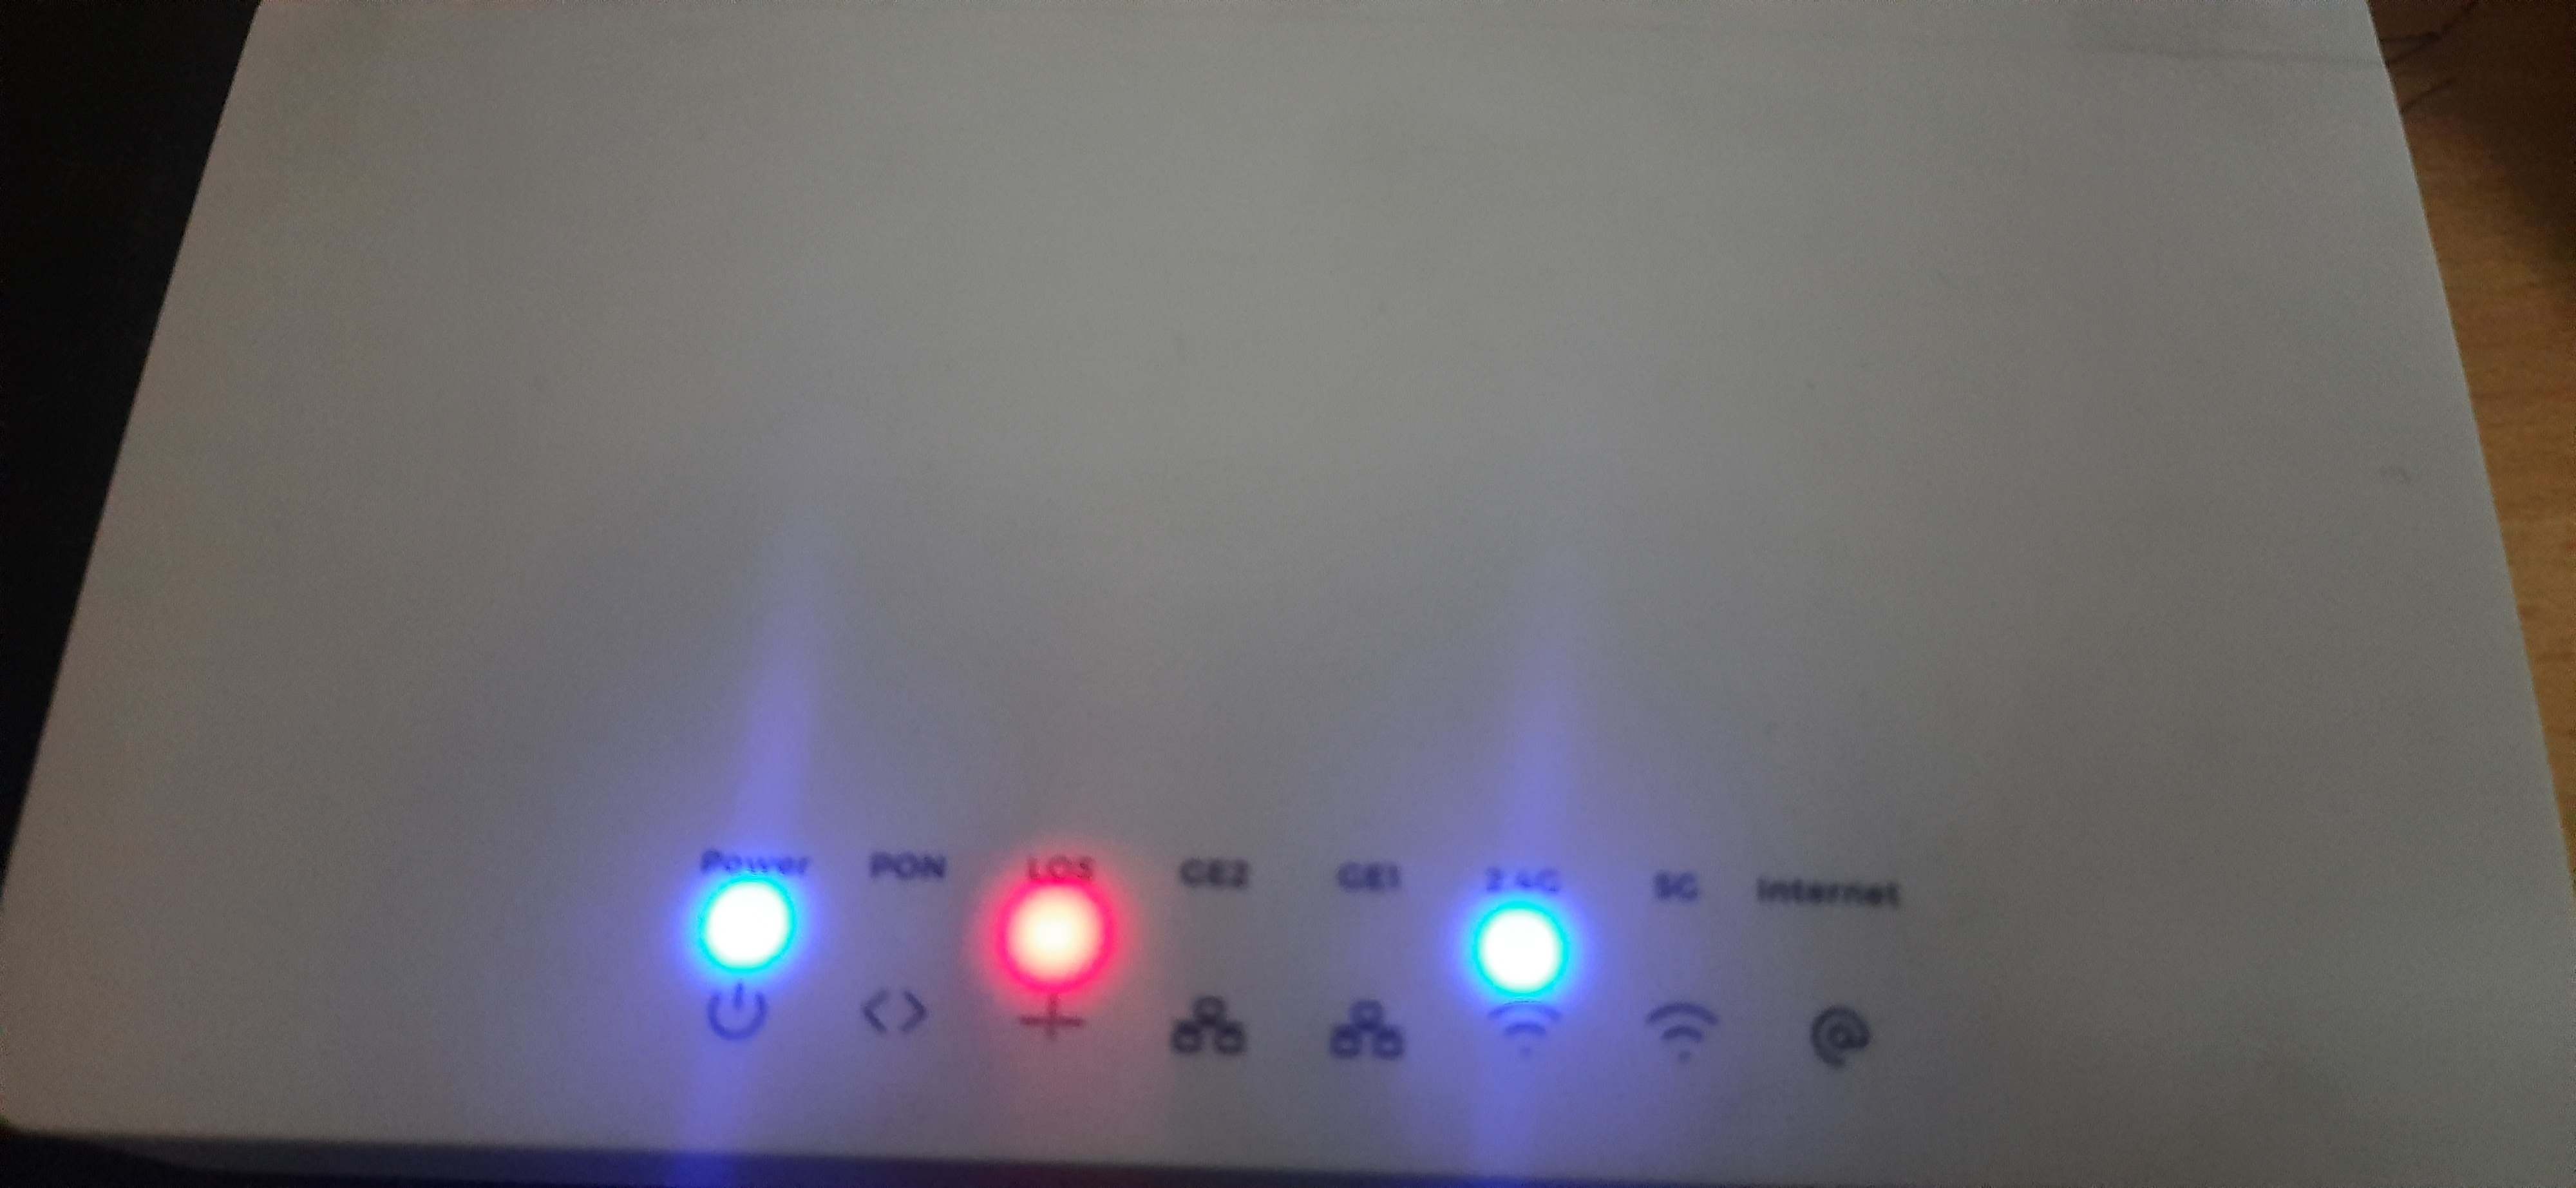LOSConnectionIssue: (968, 820, 1181, 1073)
